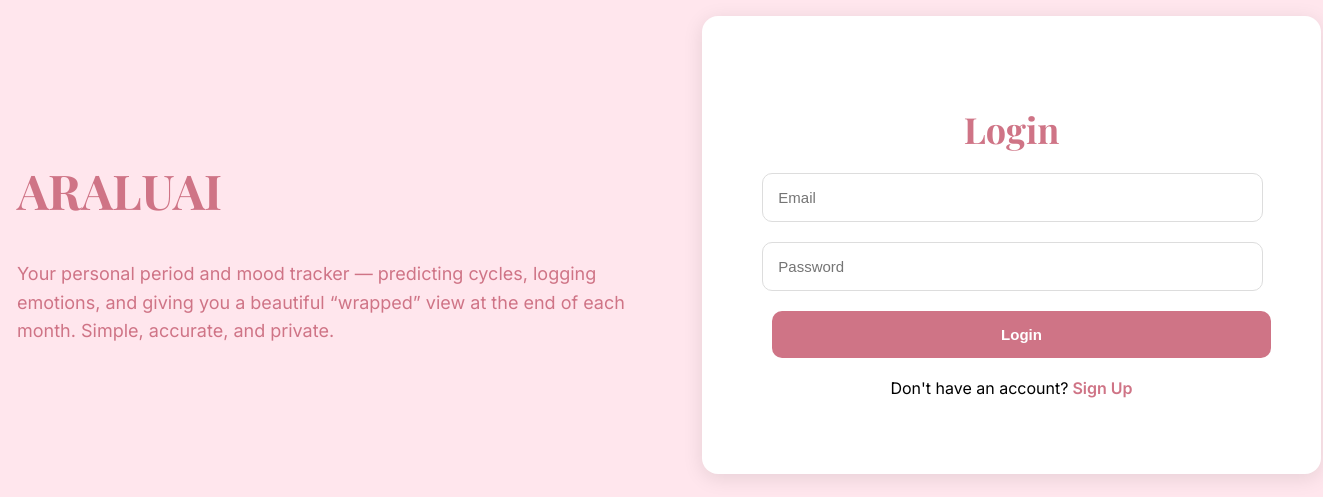
Scenario: LoginPage Component › switches to signup form when "Sign Up" is clicked
Click the text "Sign Up": (1100, 388) [1068,378,1133,398]
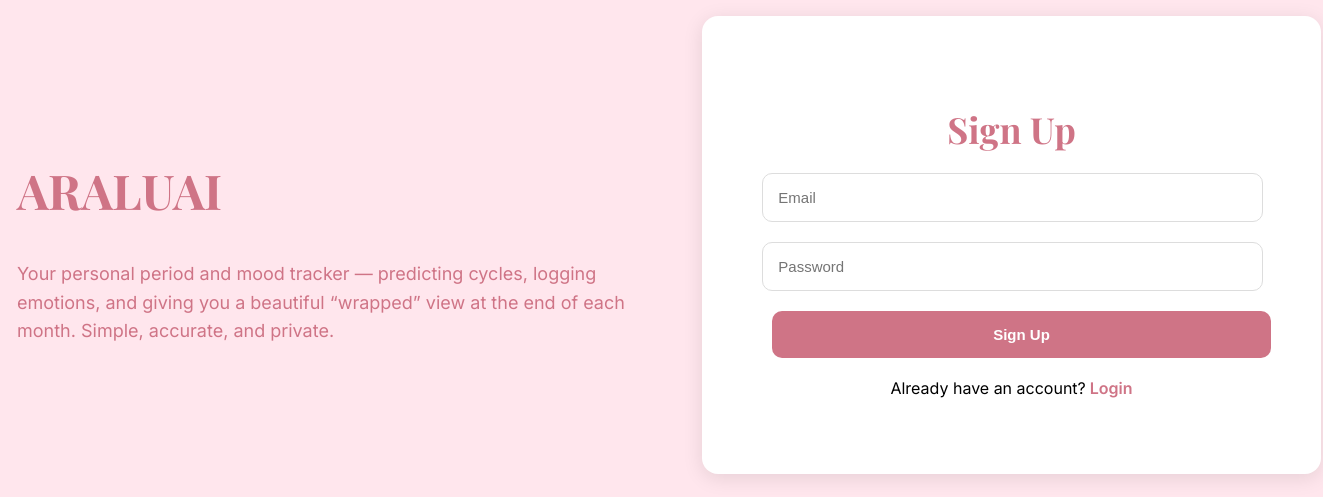
Result: the heading "Sign Up" is shown at [947,105,1076,153]
Result: the button "Sign Up" is shown at [772,311,1271,358]
Result: the text "Already have an account? Login" is shown at [890,378,1133,398]
